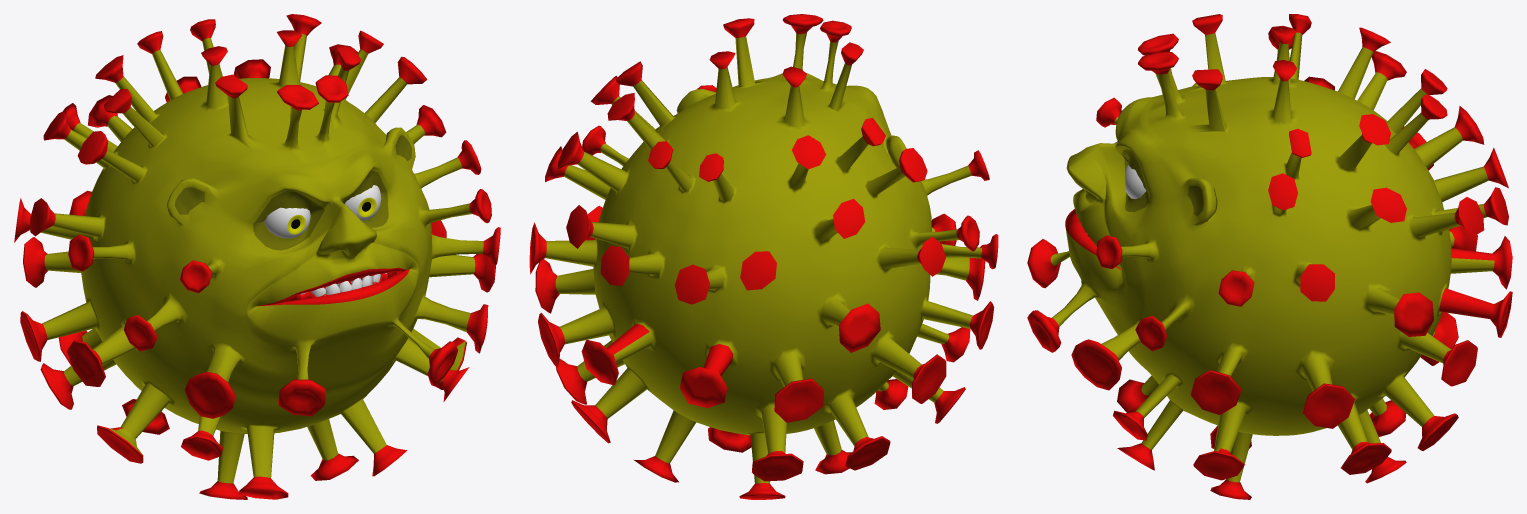
Rendered from Corona_03.fbx.
3 renders of one model, left to right at view 1: azimuth 30°, elevation 25°; view 2: azimuth 150°, elevation 25°; view 3: azimuth 270°, elevation 25°, orthographic. The views are drawn at different scales.
Parts seen in each view (by area): view 1: polySurface21; view 2: polySurface21; view 3: polySurface21.
Boxes of the visible parts, left/top/right/bottom form: polySurface21: left=14, top=14, right=500, bottom=499; polySurface21: left=529, top=14, right=998, bottom=499; polySurface21: left=1027, top=14, right=1512, bottom=499.
Bounding box in the file's own units: 11.62 × 11.55 × 11.79.
